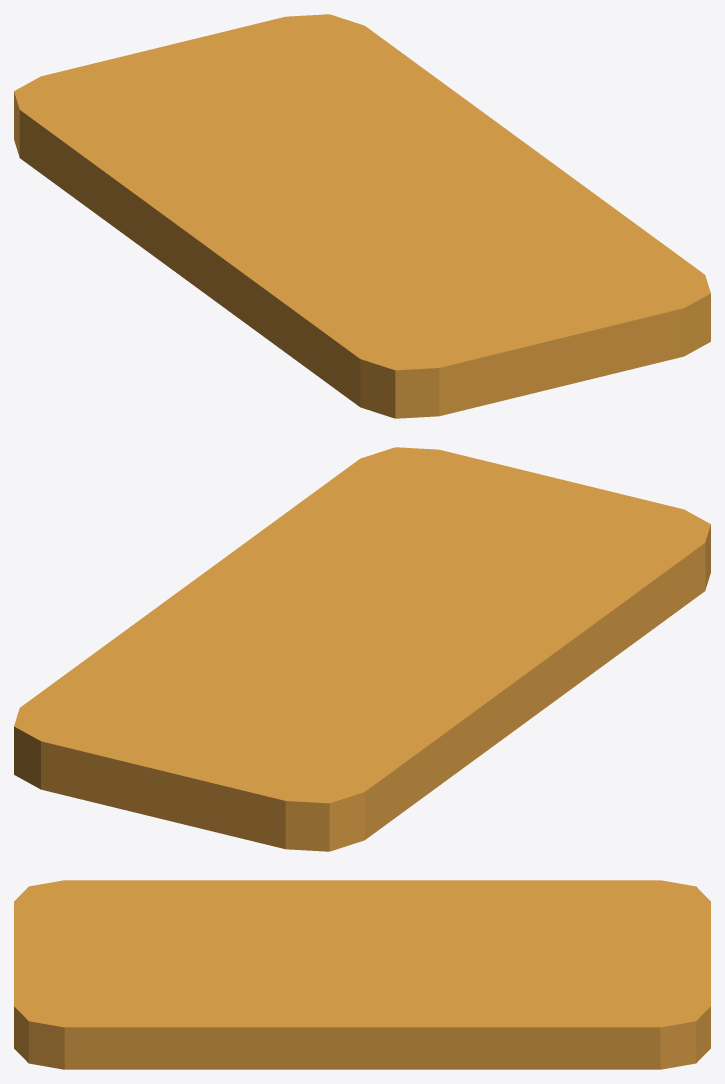
The model's file is phone.fbx.
3 views of the same model, one above another, from view 1: azimuth 30°, elevation 25°; view 2: azimuth 150°, elevation 25°; view 3: azimuth 270°, elevation 25° (orthographic). The views are drawn at different scales.
Parts seen in each view (by area): view 1: phone; view 2: phone; view 3: phone.
Part boxes in pixels (<box>): phone: <box>14,14,710,418</box>; phone: <box>14,447,710,851</box>; phone: <box>14,880,710,1069</box>.
Bounding box in the file's own units: 0.075 × 0.01 × 0.15.
